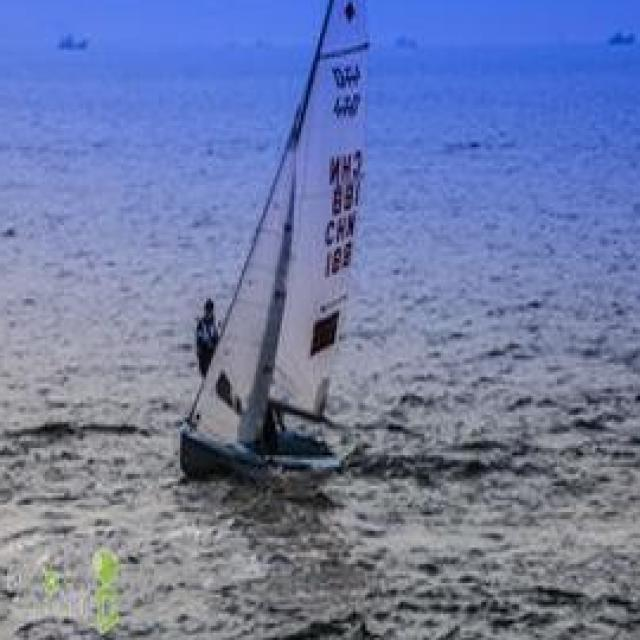sailboat: (164, 0, 398, 484)
